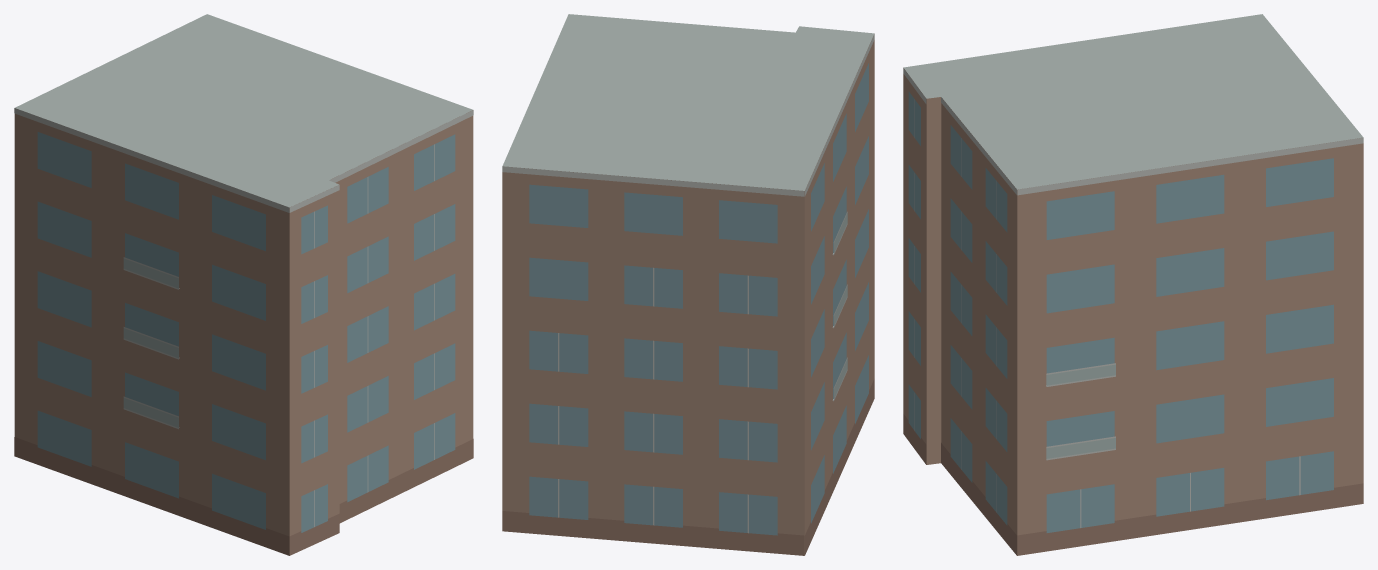
Rendered from survey-upis-32699253.glb.
The picture shows the model from 3 angles, left to right: view 1: azimuth 30°, elevation 25°; view 2: azimuth 150°, elevation 25°; view 3: azimuth 270°, elevation 25°; orthographic projection. The views are drawn at different scales.
Parts seen in each view (by area): view 1: survey-upis-32699253.tmp; view 2: survey-upis-32699253.tmp; view 3: survey-upis-32699253.tmp.
Boxes of the visible parts, x1=… form: survey-upis-32699253.tmp: x1=14, y1=14, x2=473, y2=555; survey-upis-32699253.tmp: x1=502, y1=14, x2=874, y2=555; survey-upis-32699253.tmp: x1=903, y1=14, x2=1363, y2=555.
Bounding box in the file's own units: 15.69 × 15.25 × 17.37.
